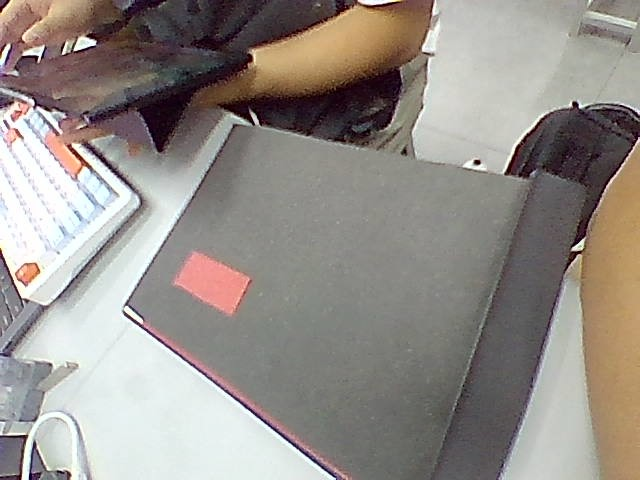card: (174, 251, 250, 315)
